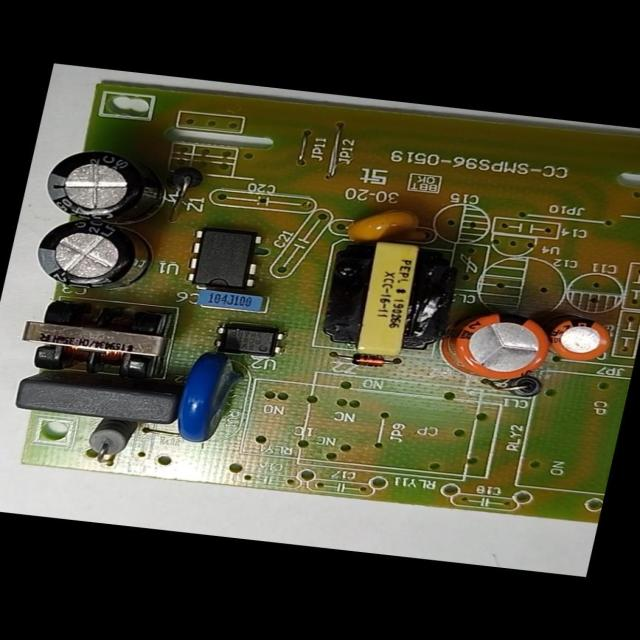Cap1: (432, 302, 564, 390)
Cap2: (534, 310, 620, 366)
Cap3: (27, 212, 158, 296)
Cap4: (32, 137, 176, 229)
MOSFET: (180, 221, 272, 297)
Mov: (164, 350, 254, 450)
Resistor: (78, 414, 148, 468)
Transformer: (313, 231, 467, 363), (11, 289, 183, 386)
